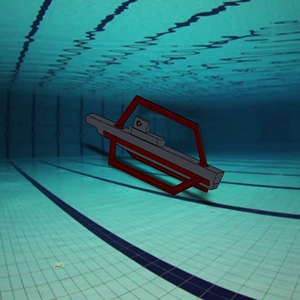submarine: (81, 88, 231, 216)
